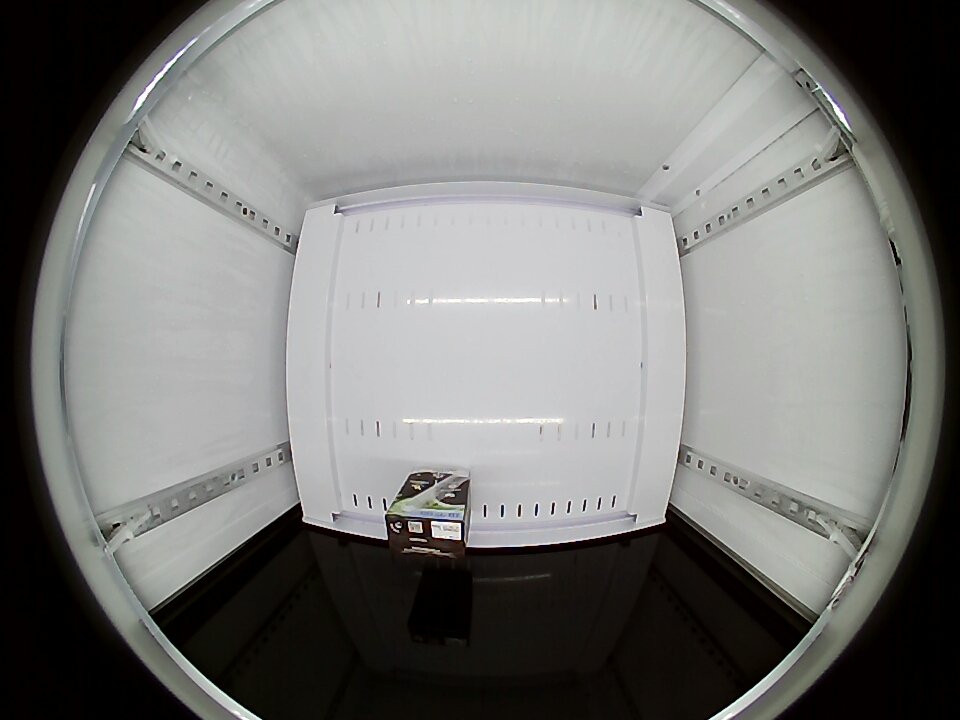weitanai2: (386, 494, 468, 557)
